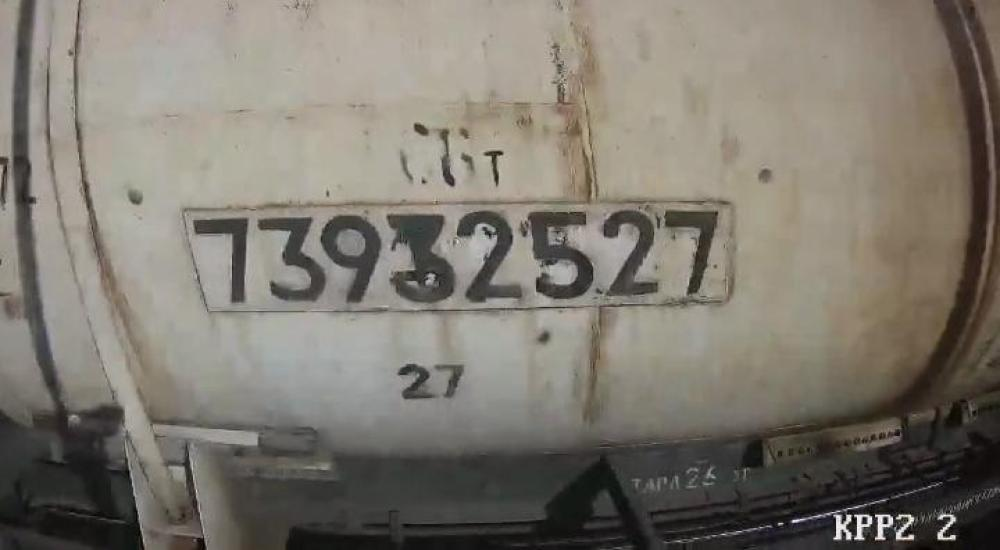Wagon-number: (182, 208, 724, 311)
